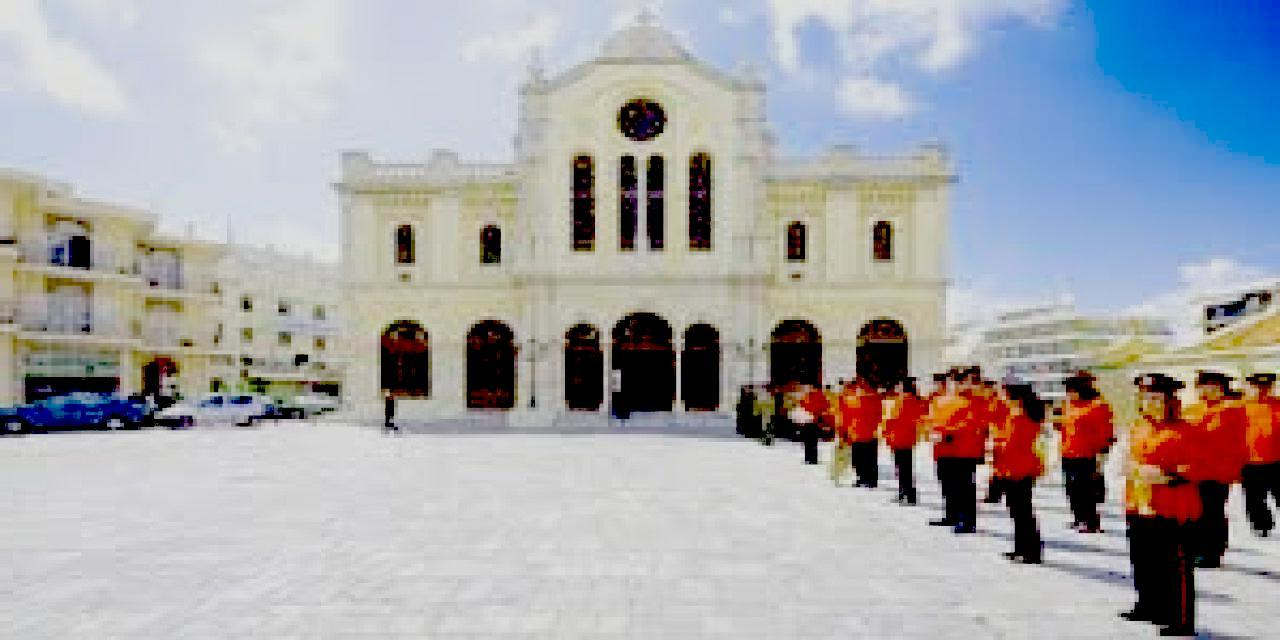Agios Minas: (322, 4, 967, 424)
